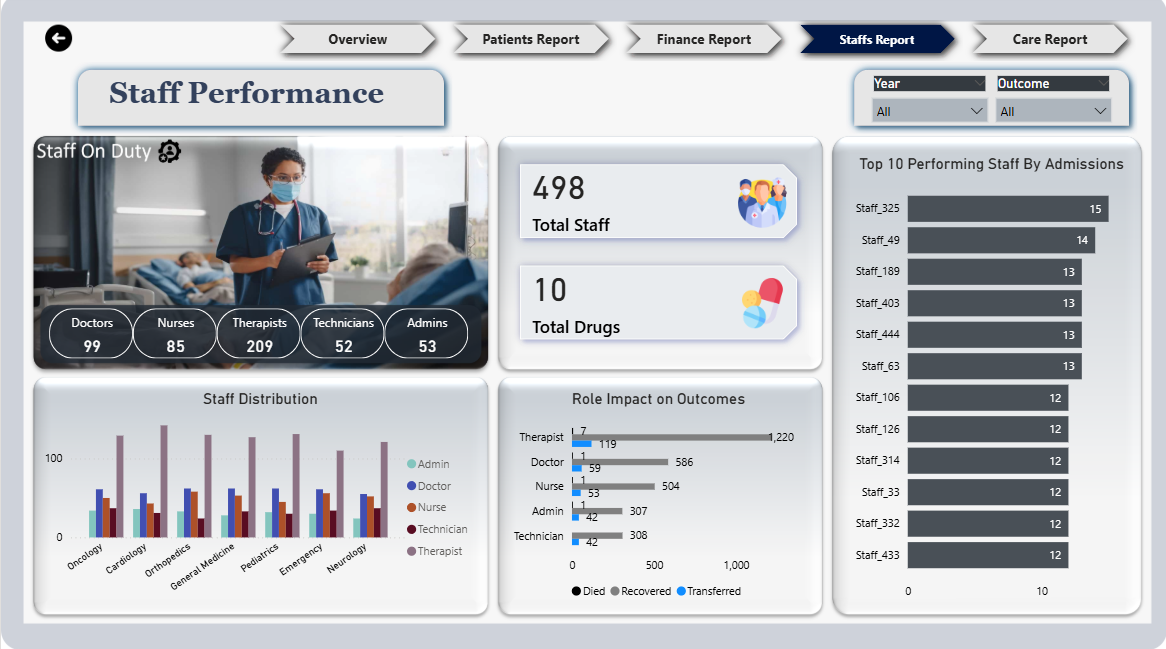

This screenshot's page, from the dashboard's own definition file:
{"tool":"powerbi","page":{"name":"Staffs Report","canvas":[1280,720],"ordinal":4},"visuals":[{"type":"shape","box":[75.5,74.1,419.9,79.6],"z":0},{"type":"shape","box":[927.6,74.1,319.7,79.6],"z":1000},{"type":"cardVisual","fields":{"Data":["_measures.Doctors","_measures.Nurses","_measures.Therapists","_measures.Technicians","_measures.Admins"]},"box":[48,340.3,474.8,65.9],"z":2000},{"type":"cardVisual","fields":{"Data":["_measures.Total Staff","_measures.Total Drugs"]},"box":[553,170.2,338.9,226.4],"z":3000},{"type":"barChart","title":"Top 10 Performing Staff By Admissions","fields":{"Category":["fact_table.Staff_Name"],"Y":["_measures.Total Admissions"]},"box":[927.6,175.6,319.7,498.1],"z":4000},{"type":"clusteredColumnChart","title":"Staff Distribution","fields":{"Category":["fact_table.Department_Name"],"Series":["fact_table.Role"],"Y":["_measures.Total Staff"]},"box":[42.5,433.6,484.4,240.1],"z":5000},{"type":"clusteredBarChart","title":"Role Impact on Outcomes","fields":{"Category":["fact_table.Role"],"Series":["fact_table.Outcome"],"Y":["_measures.Total Admissions"]},"box":[553,433.6,337.6,240.1],"z":6000},{"type":"slicer","fields":{"Values":["fact_table.Outcome"]},"box":[1081.7,85.4,148.2,63.1],"z":7000},{"type":"slicer","fields":{"Values":["Date_Table.Year"]},"box":[945.8,85.1,148.2,63.1],"z":8000},{"type":"pageNavigator","box":[297.8,24.7,949.6,49.4],"z":9000},{"type":"textbox","box":[113.9,85.1,344.4,63.1],"z":10000},{"type":"image","box":[26.1,28.8,74.1,39.8],"z":11000}]}

Visuals, with their boxes in screenshot pixels (x1, y1, x2, y2), scaled from the page's 1280x720 canvas onto the 1166x649 screenshot:
shape: 69, 67, 451, 139
shape: 845, 67, 1136, 139
cardVisual - _measures.Doctors x _measures.Nurses: 44, 307, 476, 366
cardVisual - _measures.Total Staff x _measures.Total Drugs: 504, 153, 812, 357
"Top 10 Performing Staff By Admissions" barChart: 845, 158, 1136, 607
"Staff Distribution" clusteredColumnChart: 39, 391, 480, 607
"Role Impact on Outcomes" clusteredBarChart: 504, 391, 811, 607
slicer - fact_table.Outcome: 985, 77, 1120, 134
slicer - Date_Table.Year: 862, 77, 997, 134
pageNavigator: 271, 22, 1136, 67
textbox: 104, 77, 417, 134
image: 24, 26, 91, 62
